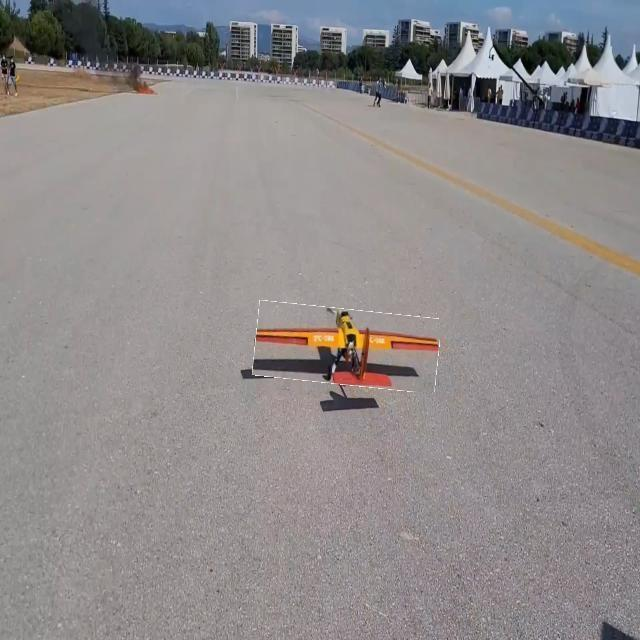Airplane: (253, 300, 442, 398)
